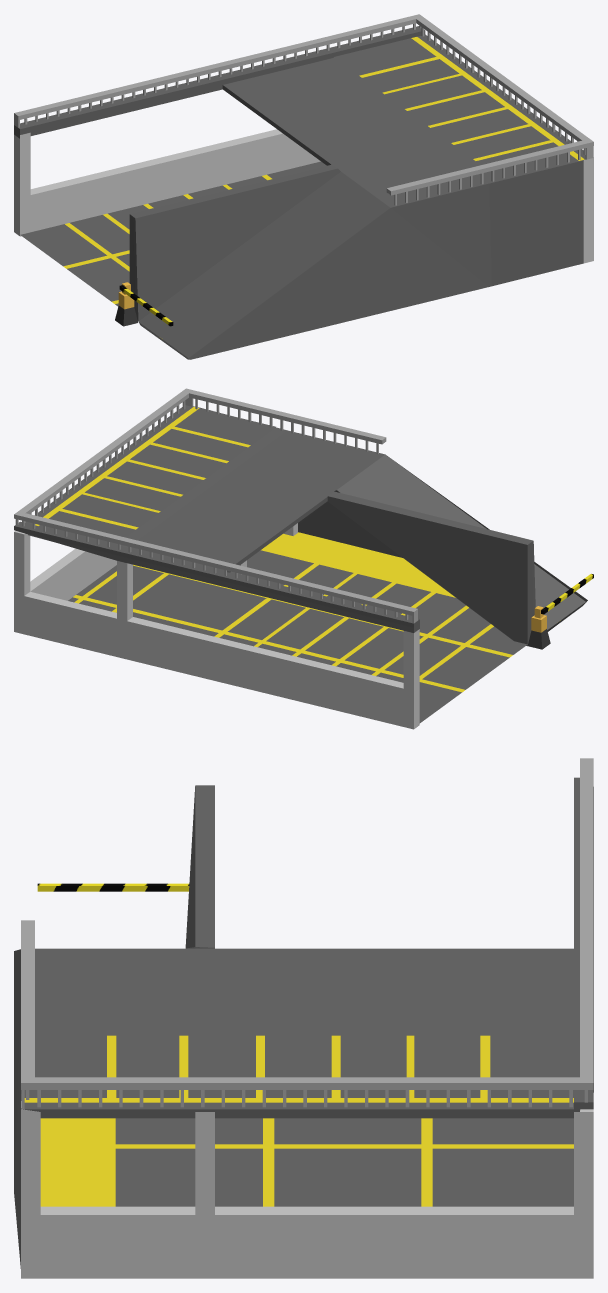
The model's file is Car Park-2.fbx.
3 views of the same model, one above another, from view 1: azimuth 30°, elevation 25°; view 2: azimuth 150°, elevation 25°; view 3: azimuth 270°, elevation 25° (orthographic). The views are drawn at different scales.
Parts seen in each view (by area): view 1: Cube.003, Cube.008, Cube.022, Cube.009, Cube.007, Cube.004; view 2: Cube.003, Cube.022, Cube.008, Cube.009, Cube.007, Cube.004; view 3: Cube.003, Cube.008, Cube.022, Cube.009, Cube.007, Cube.006.
Part boxes in pixels (bbox=[...]): Cube.003: bbox=[14, 14, 593, 359]; Cube.008: bbox=[334, 37, 584, 179]; Cube.022: bbox=[20, 161, 326, 303]; Cube.009: bbox=[416, 17, 593, 159]; Cube.007: bbox=[386, 139, 593, 205]; Cube.004: bbox=[115, 282, 137, 326]; Cube.003: bbox=[14, 405, 587, 729]; Cube.022: bbox=[160, 584, 512, 723]; Cube.008: bbox=[35, 407, 275, 544]; Cube.009: bbox=[18, 389, 193, 522]; Cube.007: bbox=[182, 388, 386, 454]; Cube.004: bbox=[528, 606, 550, 649]; Cube.003: bbox=[14, 758, 593, 1278]; Cube.008: bbox=[24, 1035, 573, 1102]; Cube.022: bbox=[263, 1118, 573, 1192]; Cube.009: bbox=[21, 1077, 579, 1109]; Cube.007: bbox=[21, 920, 34, 1099]; Cube.006: bbox=[37, 883, 189, 891].
Bounding box in the file's own units: 3891 × 1077 × 2834.
